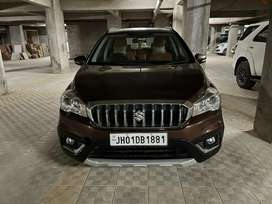JH01DB1881: (108, 131, 167, 145)
